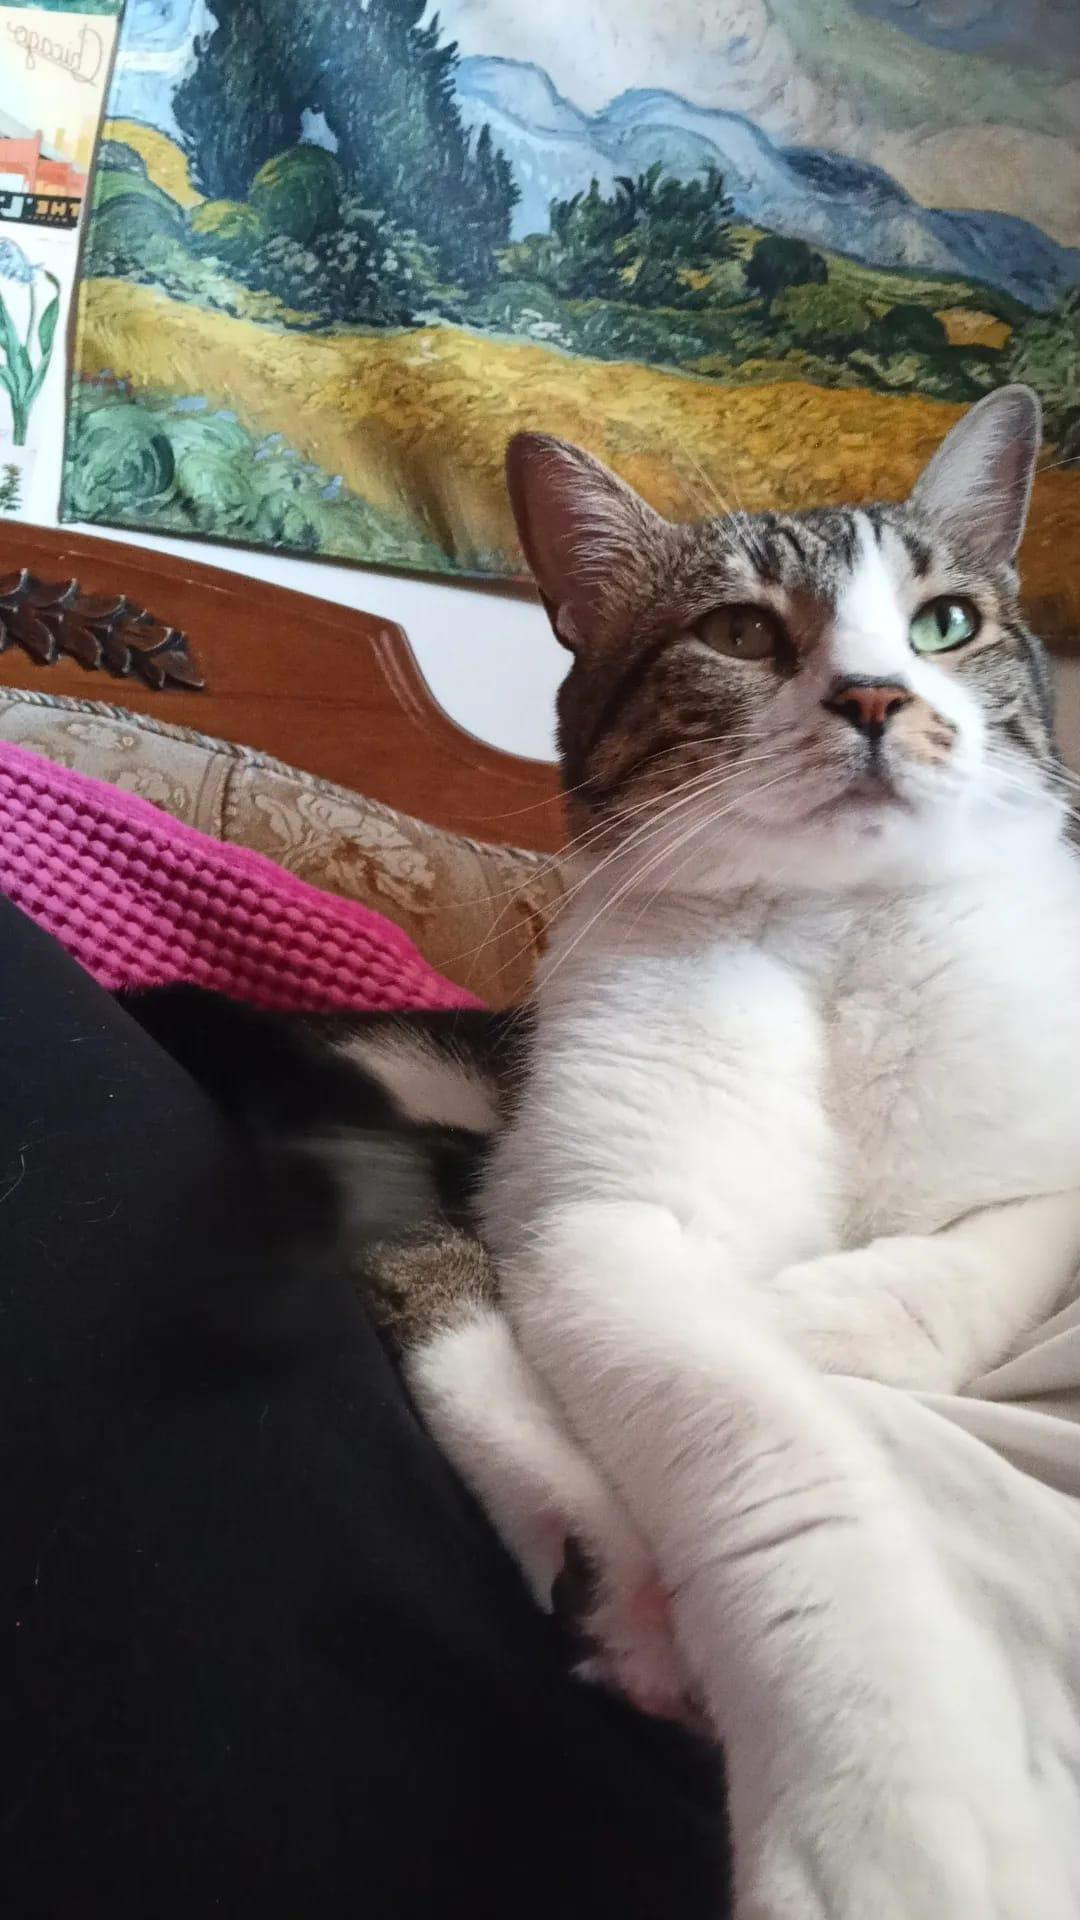kedo: (513, 387, 1080, 1906)
